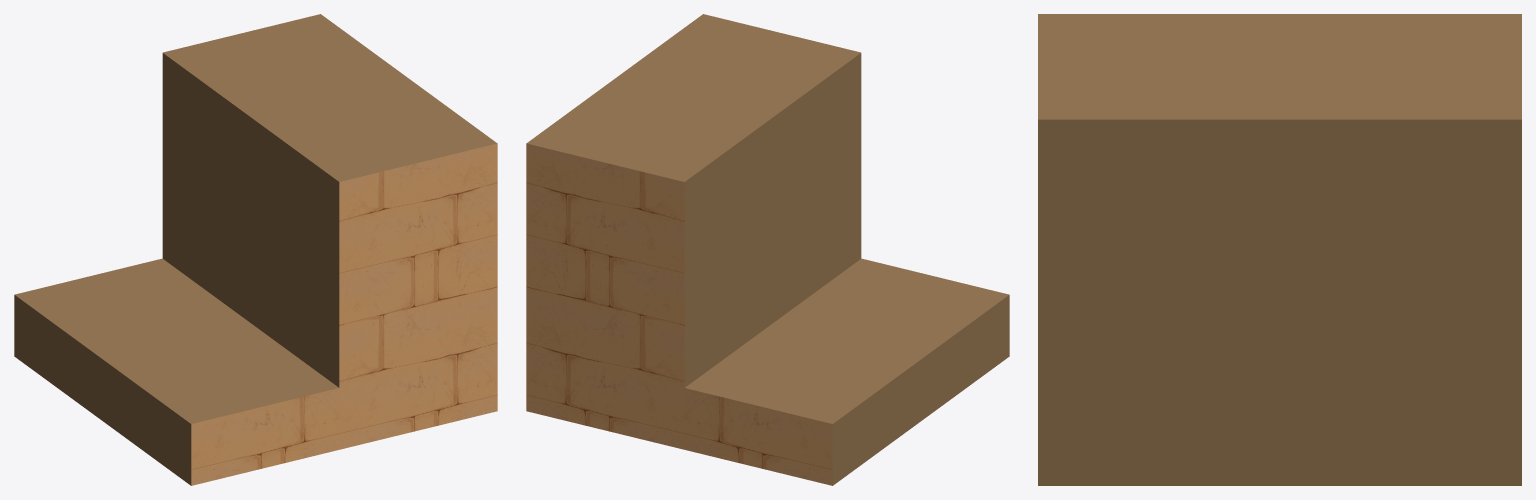
File: Crumbled_Wall_1x1V3.fbx
3 renders of one model, left to right at view 1: azimuth 30°, elevation 25°; view 2: azimuth 150°, elevation 25°; view 3: azimuth 270°, elevation 25°, orthographic. The views are drawn at different scales.
Parts seen in each view (by area): view 1: Crumbled_Wall_1x1V3; view 2: Crumbled_Wall_1x1V3; view 3: Crumbled_Wall_1x1V3.
Boxes of the visible parts, box(x1,y1,x2,y2) form: Crumbled_Wall_1x1V3: box(14, 14, 497, 485); Crumbled_Wall_1x1V3: box(526, 14, 1009, 485); Crumbled_Wall_1x1V3: box(1038, 14, 1521, 485).
Size of the model in its own units: 100 by 83.53 by 100.
